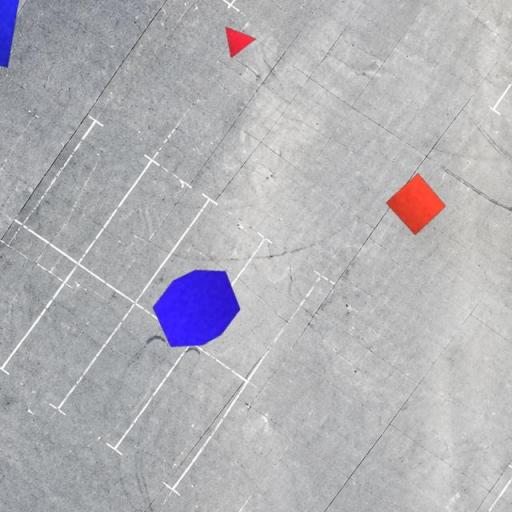RED_SQUARE: (386, 172, 446, 236)
